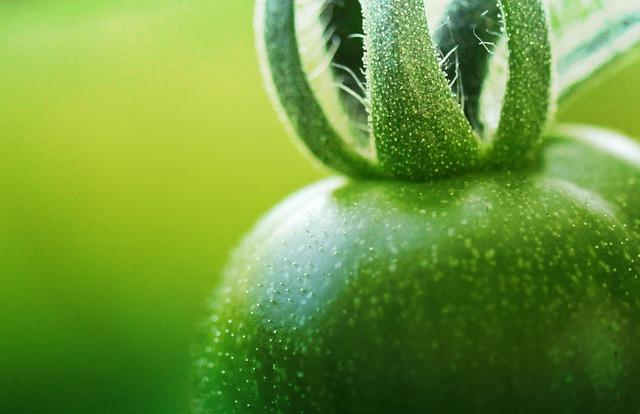Muda: (177, 50, 639, 413)
